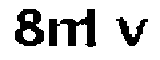8: (12, 5, 46, 51)
I: (86, 4, 107, 51)
m: (47, 15, 92, 51)
v: (114, 13, 152, 52)
